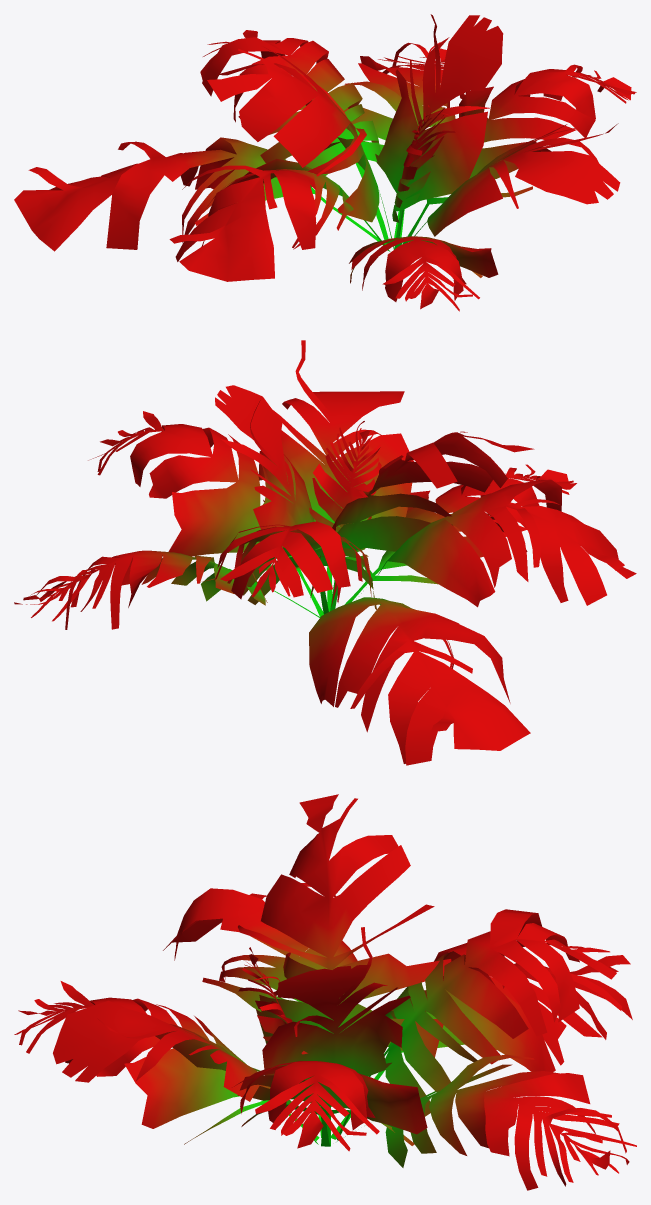
Rendered from Var2_LOD1.fbx.
The picture shows the model from 3 angles, top to bottom: view 1: azimuth 30°, elevation 25°; view 2: azimuth 150°, elevation 25°; view 3: azimuth 270°, elevation 25°; orthographic projection. The views are drawn at different scales.
Parts seen in each view (by area): view 1: _0890_Var2_LOD1; view 2: _0890_Var2_LOD1; view 3: _0890_Var2_LOD1.
Part boxes in pixels (x1,y1,x2,y2): _0890_Var2_LOD1: (14,14,636,311); _0890_Var2_LOD1: (14,340,636,765); _0890_Var2_LOD1: (14,794,636,1190).
Size of the model in its own units: 251 by 111 by 233.
